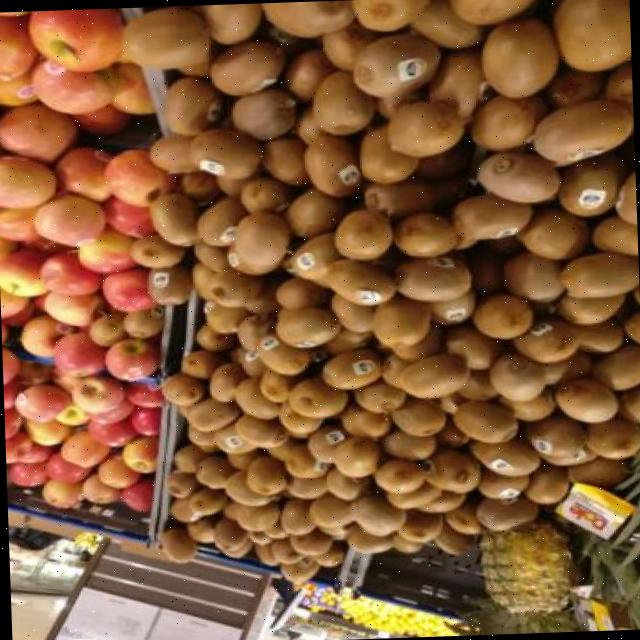kiwi: (532, 99, 631, 164), (481, 16, 558, 97), (351, 32, 439, 100), (120, 8, 209, 68), (553, 0, 631, 68), (557, 152, 627, 216), (477, 149, 559, 202), (385, 101, 463, 156), (470, 94, 546, 149), (311, 69, 374, 134), (209, 39, 283, 94), (226, 210, 289, 274), (427, 48, 482, 119), (559, 251, 639, 297), (189, 127, 261, 178), (393, 254, 471, 301), (450, 193, 531, 238), (517, 207, 587, 258), (229, 86, 295, 140), (358, 124, 418, 183), (162, 76, 221, 135), (302, 135, 360, 195), (410, 0, 482, 47), (261, 0, 353, 36), (325, 258, 394, 304), (399, 352, 468, 398), (502, 250, 564, 301), (283, 188, 345, 237), (334, 208, 392, 260), (392, 211, 457, 257), (372, 295, 430, 346), (512, 318, 578, 362), (553, 377, 617, 422), (362, 177, 433, 217), (471, 292, 532, 338), (452, 399, 517, 442), (320, 20, 377, 69), (488, 352, 544, 401), (468, 437, 540, 475), (274, 306, 340, 347), (283, 46, 333, 100), (524, 413, 586, 456), (148, 191, 197, 245), (287, 376, 346, 418), (444, 324, 499, 369), (201, 2, 261, 43), (320, 347, 380, 388), (195, 196, 245, 245), (425, 447, 479, 492), (584, 415, 640, 458), (289, 231, 338, 279), (261, 135, 308, 185), (351, 0, 429, 30), (256, 333, 310, 375), (350, 493, 405, 534), (592, 343, 640, 389), (207, 267, 261, 307), (544, 69, 604, 105), (556, 293, 624, 324), (475, 496, 537, 530), (415, 140, 469, 179), (390, 397, 445, 435), (448, 0, 532, 24), (567, 455, 627, 488), (333, 435, 380, 477), (391, 322, 441, 361), (233, 413, 289, 447), (524, 462, 569, 504), (498, 387, 555, 420), (185, 396, 240, 430), (129, 233, 184, 267), (234, 378, 280, 418), (149, 134, 196, 173), (590, 215, 637, 254), (239, 177, 291, 212), (274, 276, 329, 309), (352, 379, 405, 413), (147, 264, 192, 304), (464, 246, 502, 293), (244, 453, 286, 495), (224, 469, 273, 505), (374, 458, 424, 493), (329, 293, 375, 331), (340, 403, 390, 437), (542, 350, 592, 383), (476, 468, 529, 499), (381, 429, 435, 459), (574, 319, 623, 352), (396, 508, 442, 542), (306, 423, 346, 462), (384, 481, 441, 508), (376, 87, 425, 118), (429, 290, 475, 323), (283, 443, 327, 477), (207, 361, 244, 401), (235, 313, 274, 350), (178, 169, 219, 204), (309, 493, 352, 526), (277, 401, 320, 434), (160, 372, 203, 405), (203, 300, 246, 332), (194, 454, 234, 488), (235, 501, 280, 530), (259, 367, 297, 401), (180, 348, 223, 378), (443, 501, 482, 534), (344, 525, 391, 552), (212, 423, 254, 453), (159, 527, 196, 561), (614, 170, 637, 224), (456, 368, 496, 399), (602, 62, 632, 103), (280, 498, 314, 534), (324, 327, 371, 353), (433, 523, 473, 553), (326, 468, 364, 499), (212, 517, 246, 550), (230, 345, 265, 377), (192, 240, 228, 271), (295, 107, 325, 144), (243, 282, 278, 313), (186, 487, 226, 514), (194, 323, 234, 350), (417, 489, 466, 511), (288, 529, 331, 554), (542, 446, 597, 465), (279, 557, 319, 582), (173, 442, 206, 472), (436, 417, 469, 447), (380, 352, 408, 387), (190, 260, 215, 299), (286, 475, 326, 498), (187, 423, 218, 452), (165, 469, 197, 497), (268, 538, 303, 563), (618, 384, 640, 423), (312, 541, 345, 566), (176, 52, 209, 76), (170, 496, 200, 521), (185, 516, 214, 541), (266, 437, 294, 460), (215, 175, 245, 195), (225, 450, 256, 469), (268, 25, 299, 44), (438, 392, 466, 413), (622, 311, 640, 343), (393, 532, 421, 552), (253, 542, 278, 564), (221, 540, 251, 555), (262, 521, 287, 538), (280, 254, 298, 276), (317, 524, 347, 536), (221, 498, 238, 519), (452, 235, 476, 249), (247, 530, 271, 542), (631, 284, 640, 303)
pineapple: (444, 524, 586, 633)
